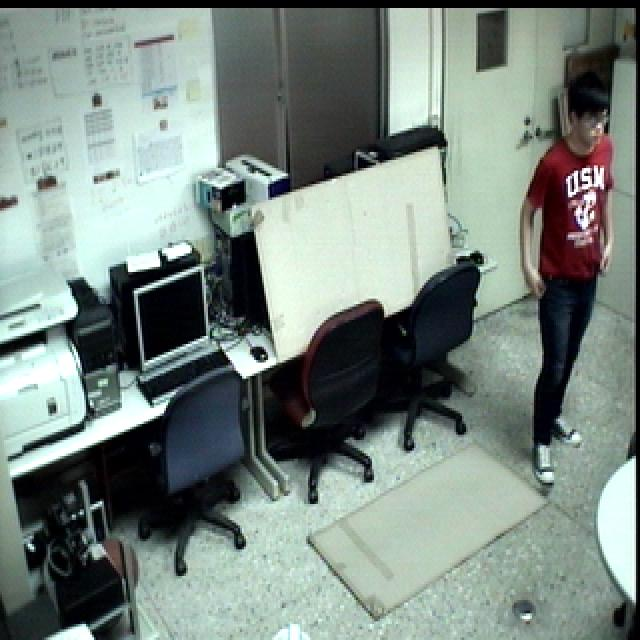stand: (516, 72, 634, 500)
